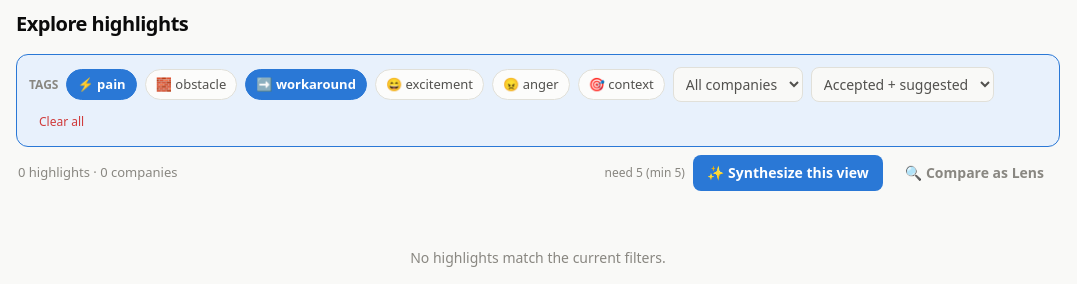
UX #16: Explore Clear all and active filter container › Clear all resets tags, company, and status
Click the button with test id "clear-all-filters": (62, 122) [29,110,94,134]
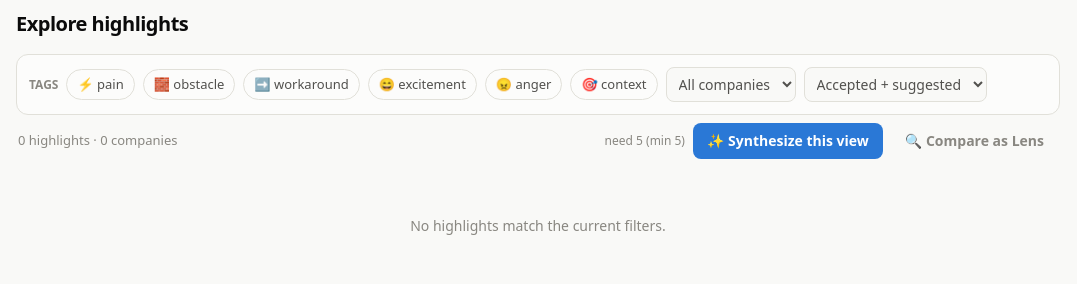
Expected: the button with test id "clear-all-filters" is gone
